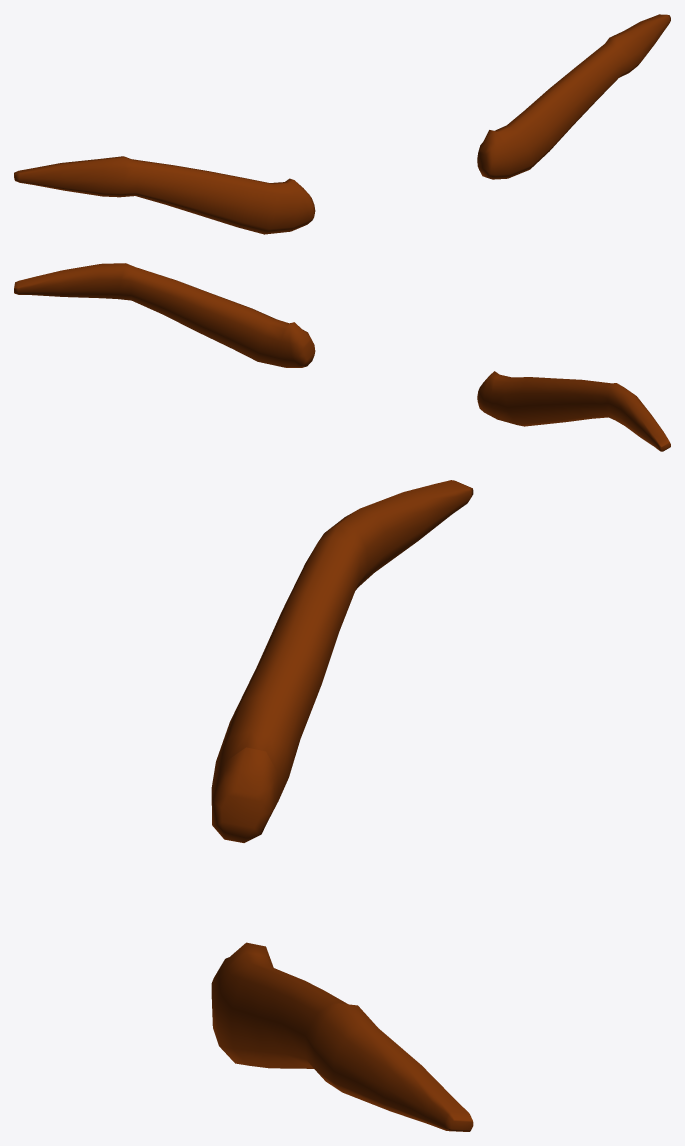
The model's file is Eyebrows_16_02.fbx.
3 renders of one model, top to bottom at view 1: azimuth 30°, elevation 25°; view 2: azimuth 150°, elevation 25°; view 3: azimuth 270°, elevation 25°, orthographic. The views are drawn at different scales.
Parts seen in each view (by area): view 1: Eyebrows_16_02; view 2: Eyebrows_16_02; view 3: Eyebrows_16_02.
Boxes of the visible parts, bbox=[...] form: Eyebrows_16_02: bbox=[14, 14, 670, 234]; Eyebrows_16_02: bbox=[14, 263, 670, 451]; Eyebrows_16_02: bbox=[211, 480, 473, 1131].
Bounding box in the file's own units: 18.79 × 2.42 × 3.25.
